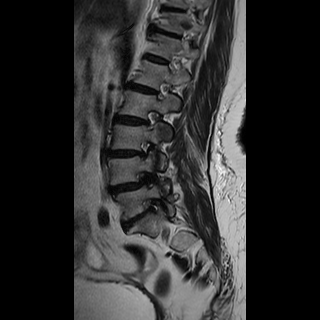RFS0: (138, 102, 163, 132), (148, 76, 173, 104)
RFS2: (128, 135, 156, 164)
RFS3: (129, 166, 158, 194)
